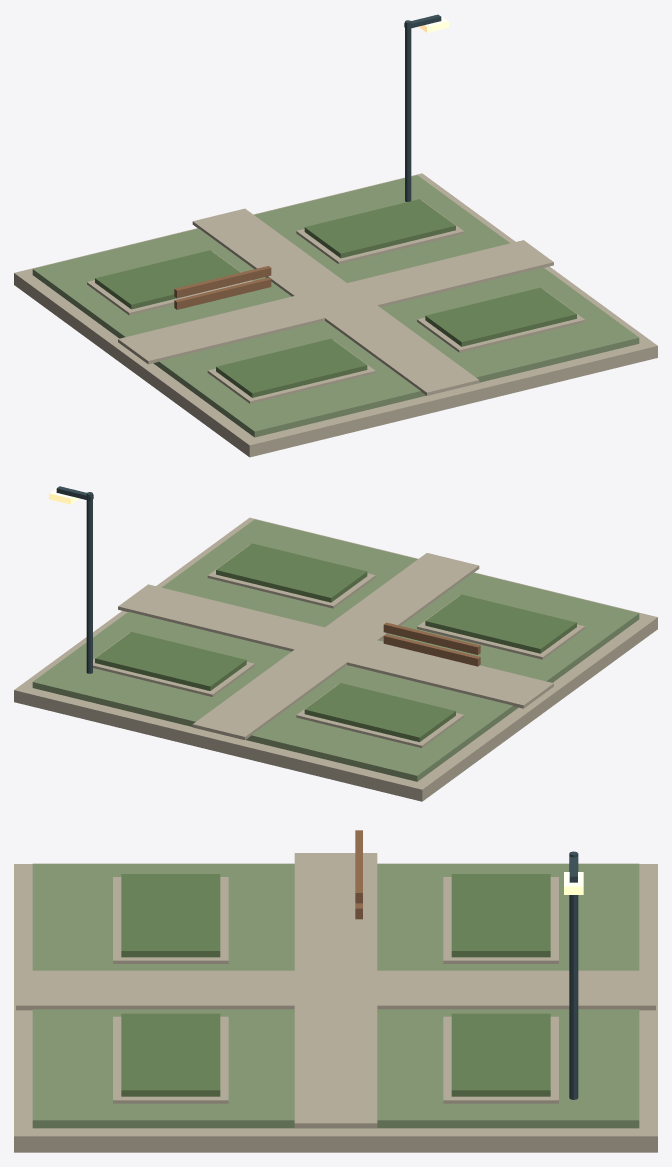
File: garden_lod.glb
3 renders of one model, top to bottom at view 1: azimuth 30°, elevation 25°; view 2: azimuth 150°, elevation 25°; view 3: azimuth 270°, elevation 25°, orthographic. The views are drawn at different scales.
Visible parts, largest first — view 1: garden_Garden_Lawn, garden_Site_Paving, garden_Garden_Walk_Z, garden_Garden_Walk_X, garden_Plant_Soil.001, garden_Plant_Soil.002, garden_Plant_Soil.003, garden_Plant_Soil, garden_Lamp_Post, garden_Flowerbed.002, garden_Flowerbed.001, garden_Flowerbed.003 (+3 smaller); view 2: garden_Garden_Lawn, garden_Site_Paving, garden_Garden_Walk_X, garden_Garden_Walk_Z, garden_Plant_Soil.001, garden_Plant_Soil.002, garden_Plant_Soil, garden_Plant_Soil.003, garden_Lamp_Post, garden_Flowerbed, garden_Flowerbed.001, garden_Flowerbed.003 (+3 smaller); view 3: garden_Garden_Lawn, garden_Garden_Walk_Z, garden_Site_Paving, garden_Garden_Walk_X, garden_Plant_Soil, garden_Plant_Soil.001, garden_Plant_Soil.002, garden_Plant_Soil.003, garden_Flowerbed.002, garden_Flowerbed.003, garden_Flowerbed, garden_Flowerbed.001 (+2 smaller).
Part boxes in pixels (<box>): garden_Garden_Lawn: <box>32,175,639,437</box>; garden_Site_Paving: <box>14,173,657,457</box>; garden_Garden_Walk_Z: <box>192,208,479,395</box>; garden_Garden_Walk_X: <box>118,240,553,364</box>; garden_Plant_Soil.001: <box>216,339,367,397</box>; garden_Plant_Soil.002: <box>304,199,455,258</box>; garden_Plant_Soil.003: <box>425,287,576,346</box>; garden_Plant_Soil: <box>95,250,240,309</box>; garden_Lamp_Post: <box>405,20,411,201</box>; garden_Flowerbed.002: <box>296,200,464,264</box>; garden_Flowerbed.001: <box>207,340,375,403</box>; garden_Flowerbed.003: <box>417,289,584,352</box>; garden_Garden_Lawn: <box>32,519,639,781</box>; garden_Site_Paving: <box>14,517,657,801</box>; garden_Garden_Walk_X: <box>118,584,553,708</box>; garden_Garden_Walk_Z: <box>192,553,479,739</box>; garden_Plant_Soil.001: <box>425,594,576,653</box>; garden_Plant_Soil.002: <box>95,632,246,690</box>; garden_Plant_Soil: <box>304,683,455,742</box>; garden_Plant_Soil.003: <box>216,543,367,602</box>; garden_Lamp_Post: <box>86,492,92,673</box>; garden_Flowerbed: <box>296,684,464,747</box>; garden_Flowerbed.001: <box>417,595,584,659</box>; garden_Flowerbed.003: <box>207,545,375,608</box>; garden_Garden_Lawn: <box>32,863,639,1128</box>; garden_Garden_Walk_Z: <box>16,970,655,1010</box>; garden_Site_Paving: <box>14,864,657,1152</box>; garden_Garden_Walk_X: <box>294,853,377,1127</box>; garden_Plant_Soil: <box>451,874,550,957</box>; garden_Plant_Soil.001: <box>121,874,220,957</box>; garden_Plant_Soil.002: <box>451,1013,550,1096</box>; garden_Plant_Soil.003: <box>121,1013,220,1096</box>; garden_Flowerbed.002: <box>443,1016,558,1103</box>; garden_Flowerbed.003: <box>113,1016,228,1103</box>; garden_Flowerbed: <box>443,877,558,963</box>; garden_Flowerbed.001: <box>113,877,228,963</box>.
Size of the model in its own units: 7.8 by 3.6 by 7.8.
